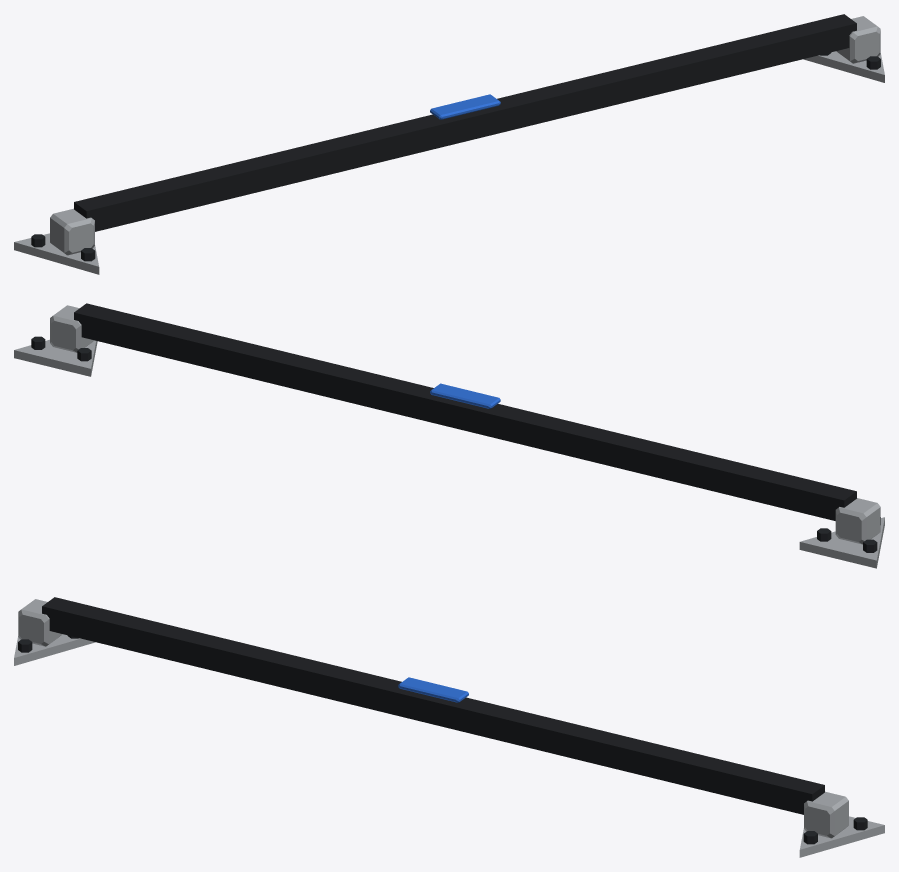
Rendered from ridgeback_4x4.glb.
3 renders of one model, top to bottom at view 1: azimuth 30°, elevation 25°; view 2: azimuth 150°, elevation 25°; view 3: azimuth 330°, elevation 25°, orthographic.
Parts seen in each view (by area): view 1: model; view 2: model; view 3: model.
Boxes of the visible parts, x1,y1,x2,y2 form: model: (14,14,884,274); model: (14,303,884,568); model: (14,597,884,857).
Size of the model in its own units: 1.12 by 0.068 by 0.105.
3 materials, 1 textured.
